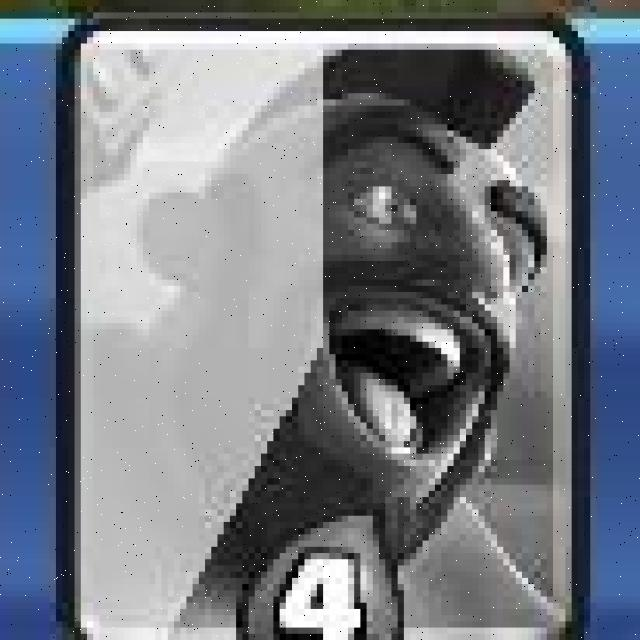Hog_Rider: (61, 14, 587, 640)
